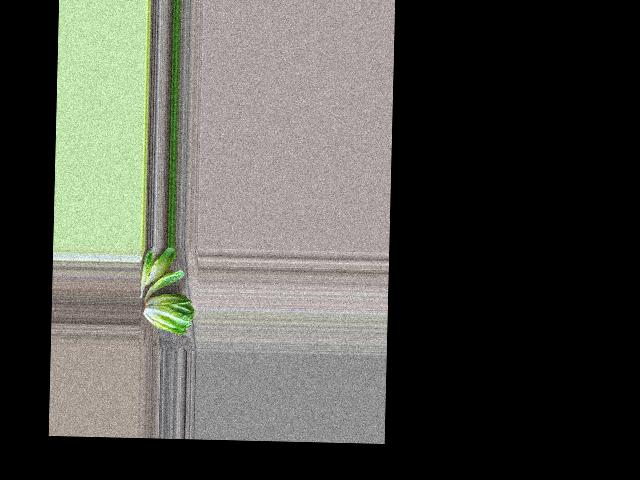lettuce: (143, 290, 194, 336)
